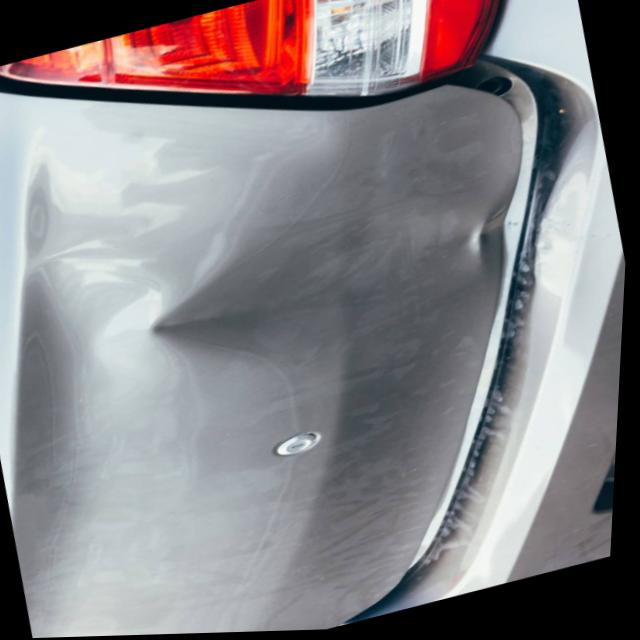Dent: (111, 164, 407, 416)
